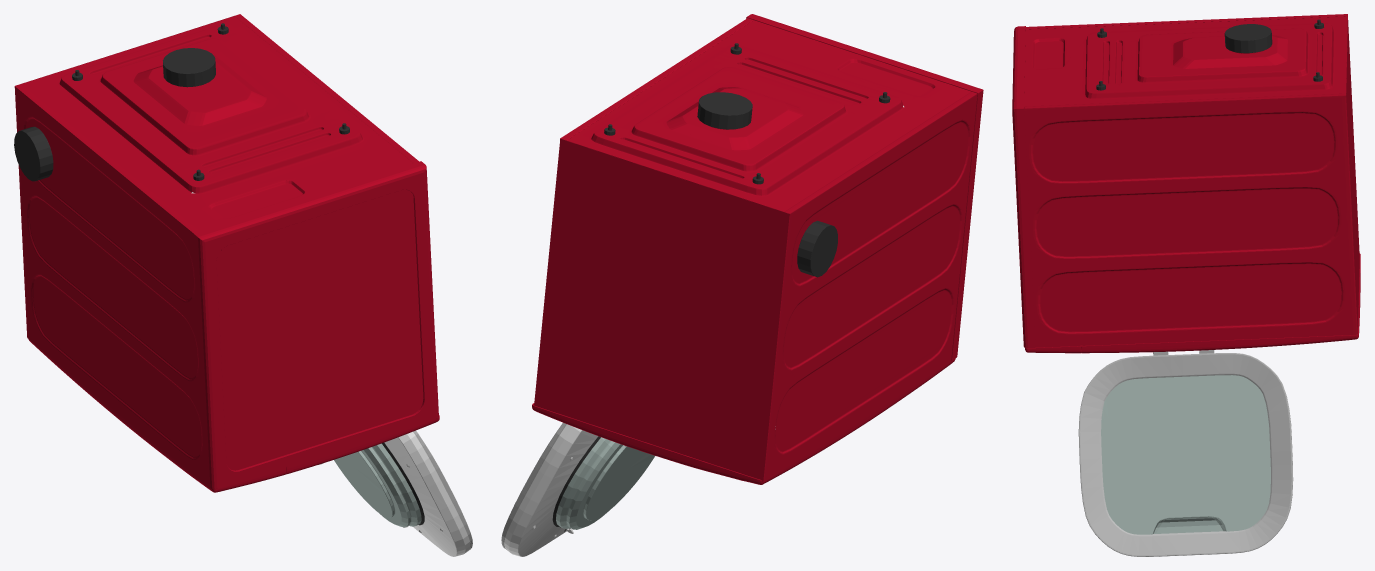
3 views of the same model, side by side, from view 1: azimuth 30°, elevation 25°; view 2: azimuth 150°, elevation 25°; view 3: azimuth 270°, elevation 25° (orthographic). The views are drawn at different scales.
Visible parts, largest first — view 1: tumble dryer; view 2: tumble dryer; view 3: tumble dryer.
Boxes of the visible parts, x1,y1,x2,y2 form: tumble dryer: (14, 14, 472, 556); tumble dryer: (501, 14, 983, 556); tumble dryer: (1012, 14, 1360, 556).
Bounding box in the file's own units: 39.22 × 54.62 × 39.21.
